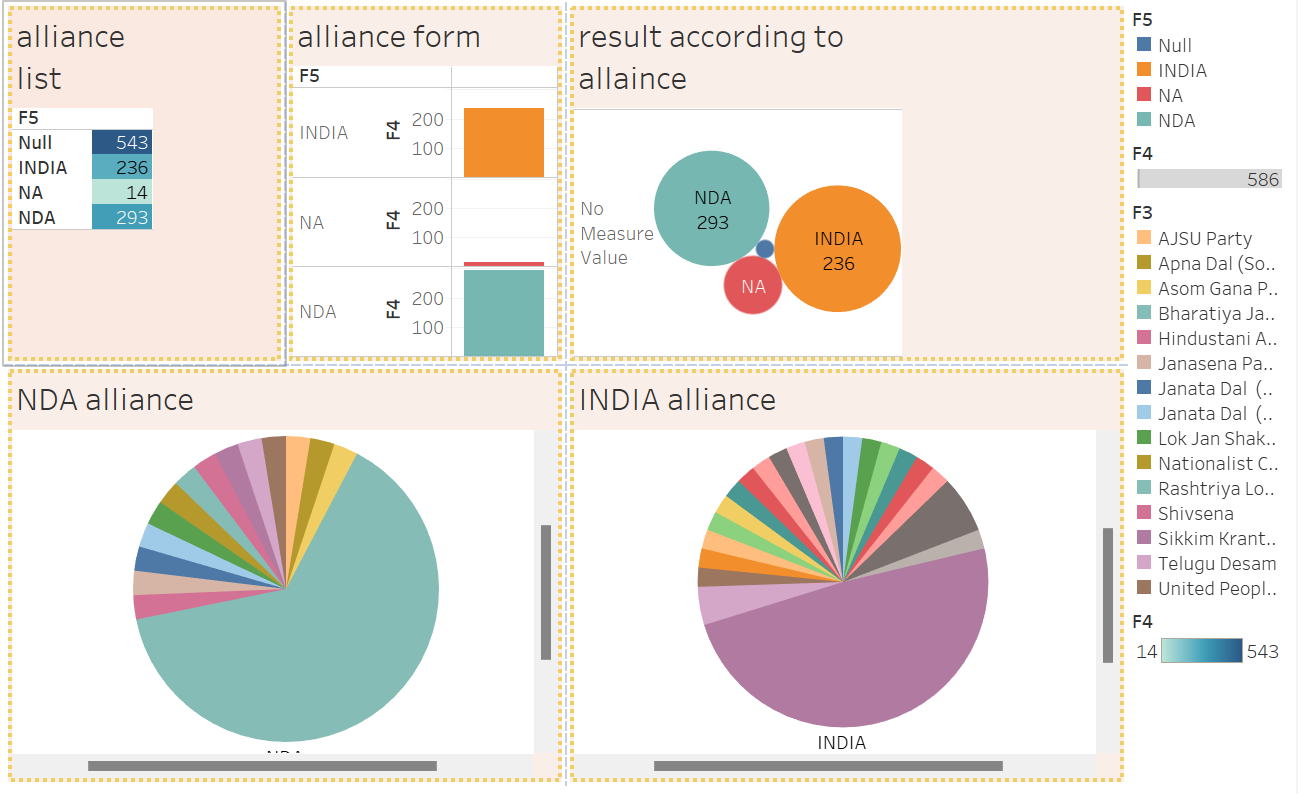

The page's visual inventory and layout, read from the dashboard file:
{"tool":"tableau","page":{"name":"Dashboard 2","canvas":[1300,800],"ordinal":1},"visuals":[{"type":"worksheet","title":"Sheet 9","mark":"Square","rows":["F5"],"box":[8,8,281,363]},{"type":"worksheet","title":"Sheet 10","mark":"Automatic","rows":["F5","F4"],"box":[289,8,281,363]},{"type":"worksheet","title":"Sheet 4","mark":"Circle","box":[570,8,562,363]},{"type":"legend","title":"Sheet 4","param":"[federated.0kb7lgu03bybt21gvcan219d4v7t].[none:F5:nk]","box":[1132,8,160,134]},{"type":"legend","title":"Sheet 6","param":"[federated.0kb7lgu03bybt21gvcan219d4v7t].[sum:F4:qk]","box":[1132,142,160,59]},{"type":"legend","title":"Sheet 6","param":"[federated.0kb7lgu03bybt21gvcan219d4v7t].[none:F3:nk]","box":[1132,201,160,409]},{"type":"worksheet","title":"Sheet 6","mark":"Pie","box":[8,371,562,421]},{"type":"worksheet","title":"Sheet 7","mark":"Pie","box":[570,371,562,421]},{"type":"legend","title":"Sheet 9","param":"[federated.0kb7lgu03bybt21gvcan219d4v7t].[sum:F4:qk]","box":[1132,610,160,81]}]}

Visuals, with their boxes in screenshot pixels (x1, y1, x2, y2), scaled from the page's 1300x800 canvas onto the 1298x794 screenshot:
"Sheet 9" worksheet (Square marks): 8, 8, 289, 368
"Sheet 10" worksheet: 289, 8, 569, 368
"Sheet 4" worksheet (Circle marks): 569, 8, 1130, 368
"Sheet 4" legend: 1130, 8, 1290, 141
"Sheet 6" legend: 1130, 141, 1290, 199
"Sheet 6" legend: 1130, 199, 1290, 605
"Sheet 6" worksheet (Pie marks): 8, 368, 569, 786
"Sheet 7" worksheet (Pie marks): 569, 368, 1130, 786
"Sheet 9" legend: 1130, 605, 1290, 686
